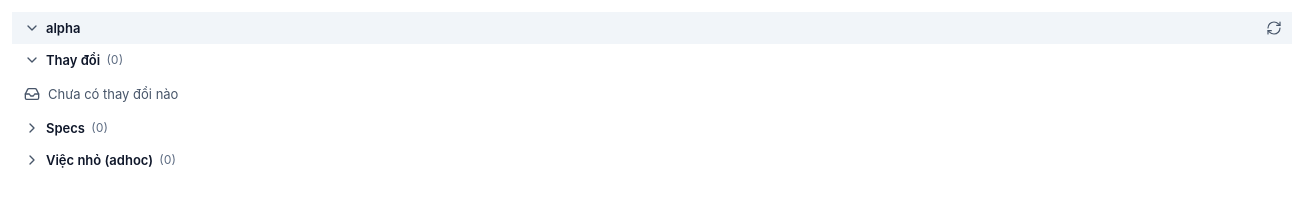
<PlanTree /> › adhoc runs › empty: the group reads "Chưa có việc nhỏ nào" when opened
Click the button "Việc nhỏ (adhoc) (0)" at (100, 160), box [12,144,1292,176]
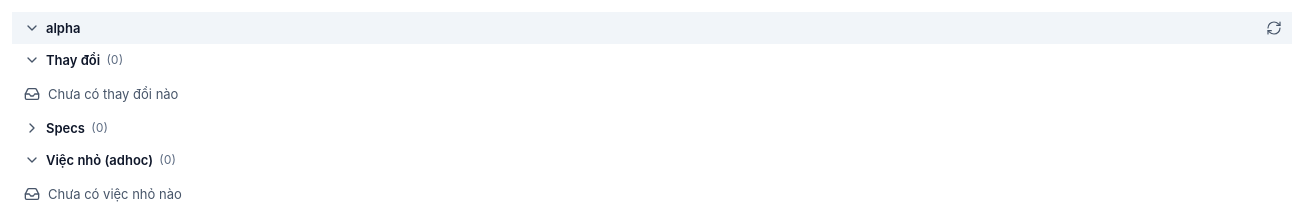
Result: the text "Chưa có việc nhỏ nào" is shown at [24,186,182,202]
